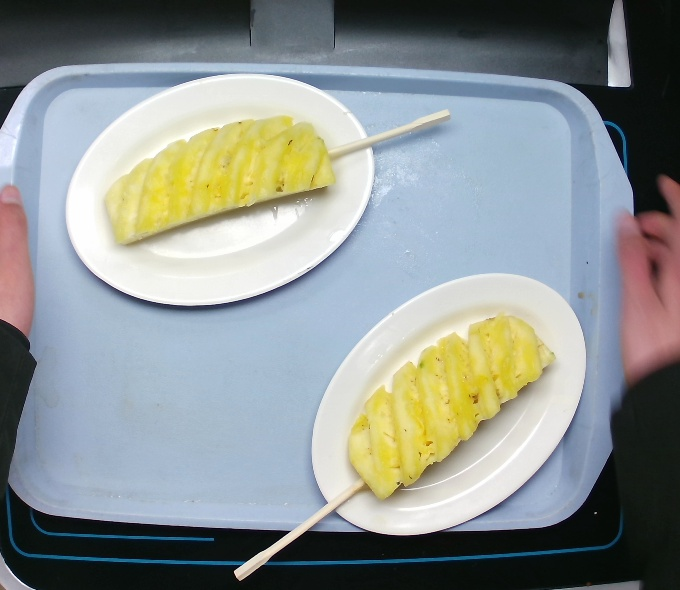wcq-BoLuo: (329, 308, 568, 521), (102, 112, 365, 255)
